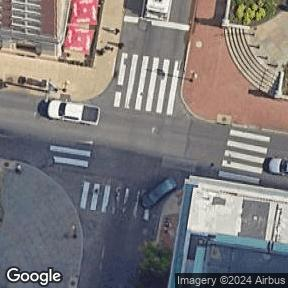vegetation: (136, 243, 176, 284)
